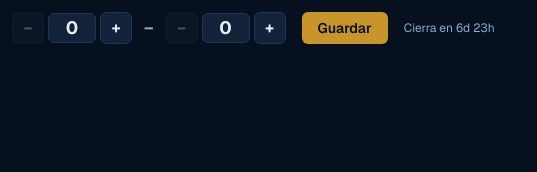
Scenario: PredictionForm — envío exitoso › envía la predicción y muestra confirmación tras modificar el marcador
This screenshot has width=537, height=172.
# +1 al marcador local → el formulario queda "dirty"
What coordinates should you click on to do the following:
click the button named "Sumar"
I would click on:
 (116, 28)
Its box is [100,12,132,44].
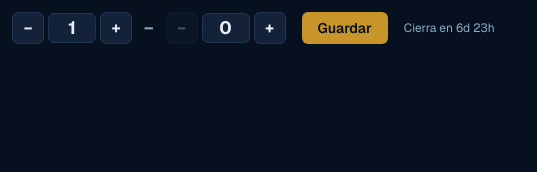
What coordinates should you click on to do the following:
click the button "Guardar"
I would click on:
 (345, 28)
Its box is [302,12,388,44].
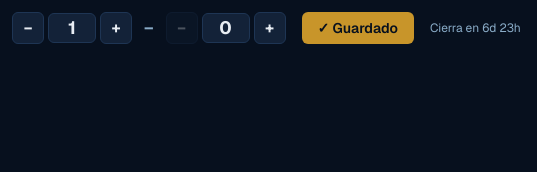
Check: the button "✓ Guardado" is shown, box [302,12,414,44]
